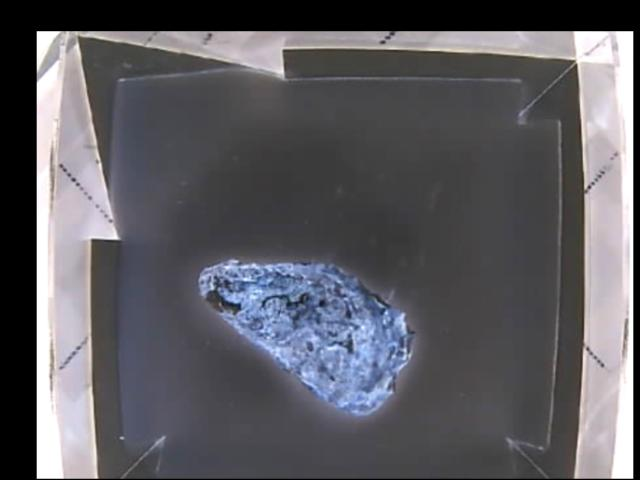Shell: (199, 260, 417, 415)
